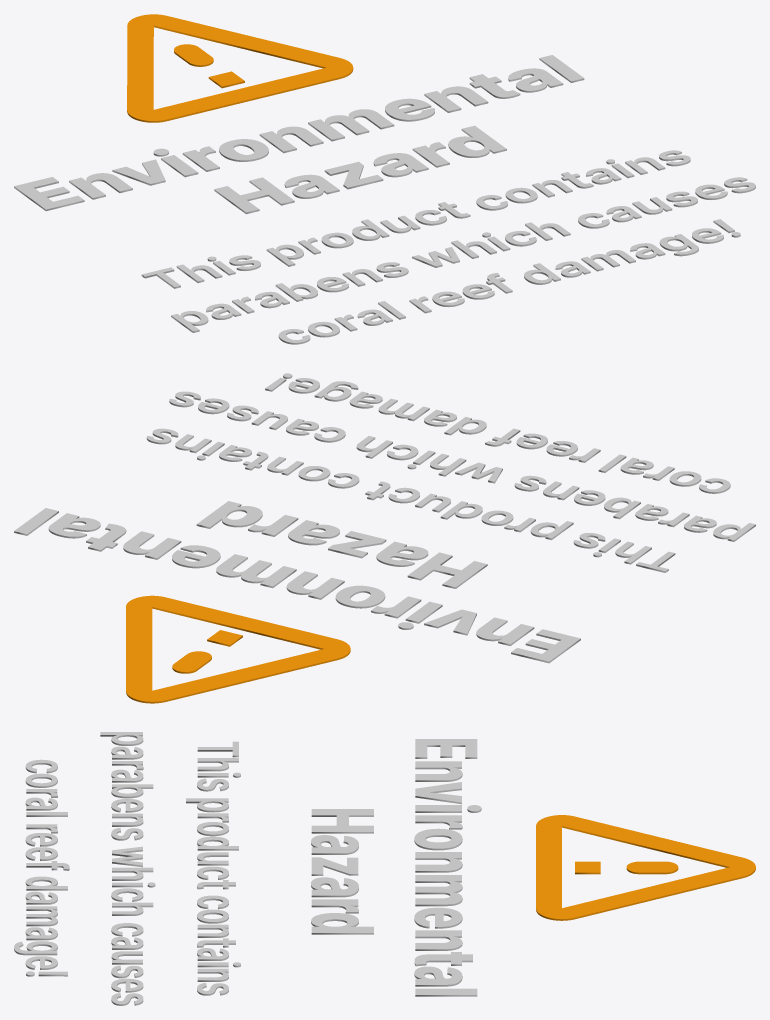
The model's file is badEnvCard.obj.
3 renders of one model, top to bottom at view 1: azimuth 30°, elevation 25°; view 2: azimuth 150°, elevation 25°; view 3: azimuth 270°, elevation 25°, orthographic. The views are drawn at different scales.
Parts seen in each view (by area): view 1: Curve.002_Curve.013, Curve_Curve.011, Curve.001_Curve.012; view 2: Curve.002_Curve.013, Curve_Curve.011, Curve.001_Curve.012; view 3: Curve.002_Curve.013, Curve_Curve.011, Curve.001_Curve.012.
Boxes of the visible parts, x1,y1,x2,y2 form: Curve.002_Curve.013: (141, 150, 755, 344); Curve_Curve.011: (14, 55, 584, 214); Curve.001_Curve.012: (127, 14, 353, 122); Curve.002_Curve.013: (146, 373, 755, 572); Curve_Curve.011: (14, 501, 580, 663); Curve.001_Curve.012: (126, 595, 350, 703); Curve.002_Curve.013: (14, 732, 240, 1005); Curve_Curve.011: (311, 739, 481, 996); Curve.001_Curve.012: (536, 815, 755, 920).
Bounding box in the file's own units: 1.4 × 0.004 × 1.61.
